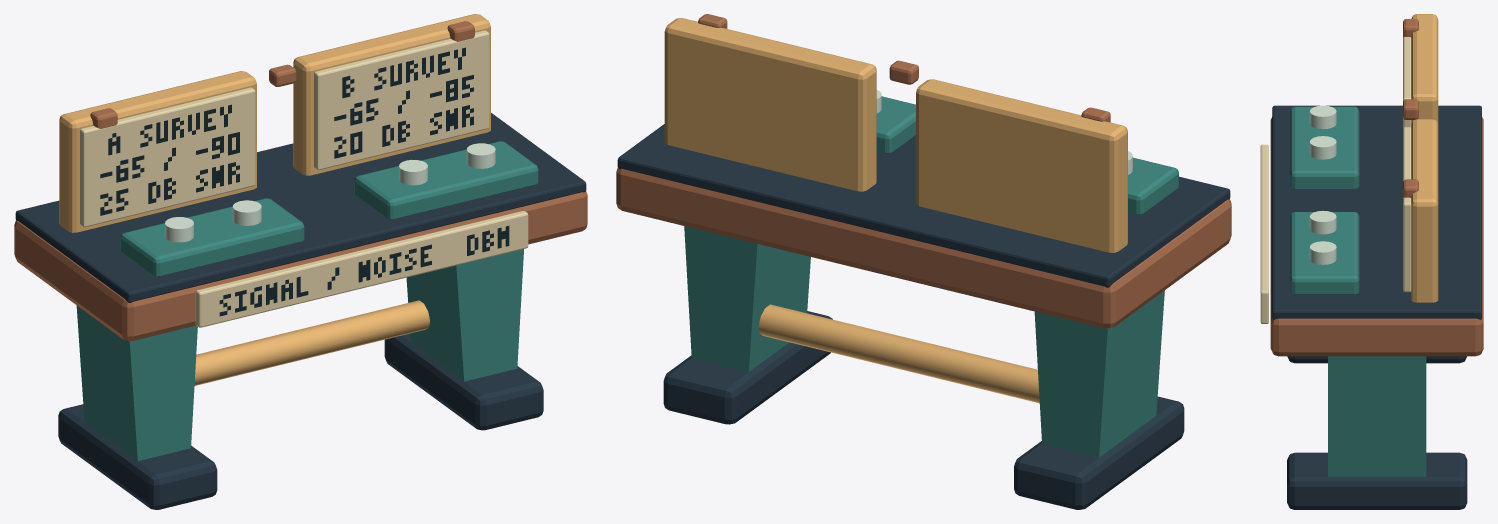
The picture shows the model from 3 angles, left to right: view 1: azimuth 30°, elevation 25°; view 2: azimuth 150°, elevation 25°; view 3: azimuth 270°, elevation 25°; orthographic projection. The views are drawn at different scales.
Visible parts, largest first — view 1: PR080 enamel and hardware; view 2: PR080 enamel and hardware; view 3: PR080 enamel and hardware.
Boxes of the visible parts, x1=… form: PR080 enamel and hardware: x1=14, y1=14, x2=587, y2=509; PR080 enamel and hardware: x1=616, y1=14, x2=1231, y2=509; PR080 enamel and hardware: x1=1260, y1=14, x2=1483, y2=509.
Size of the model in its own units: 1.6 by 1.15 by 0.7226.
